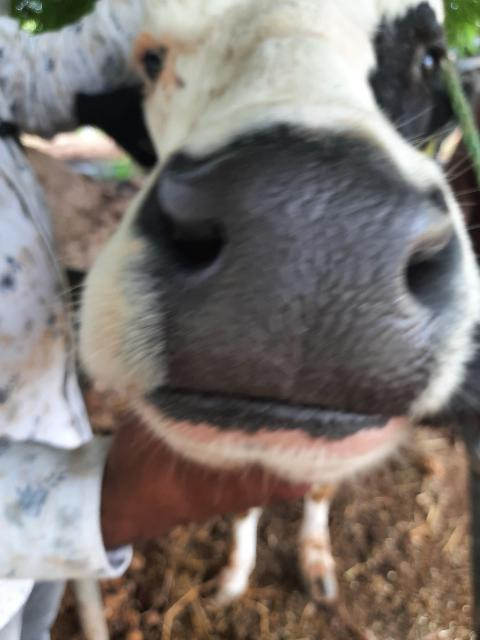Muzzle: (211, 164, 417, 384)
